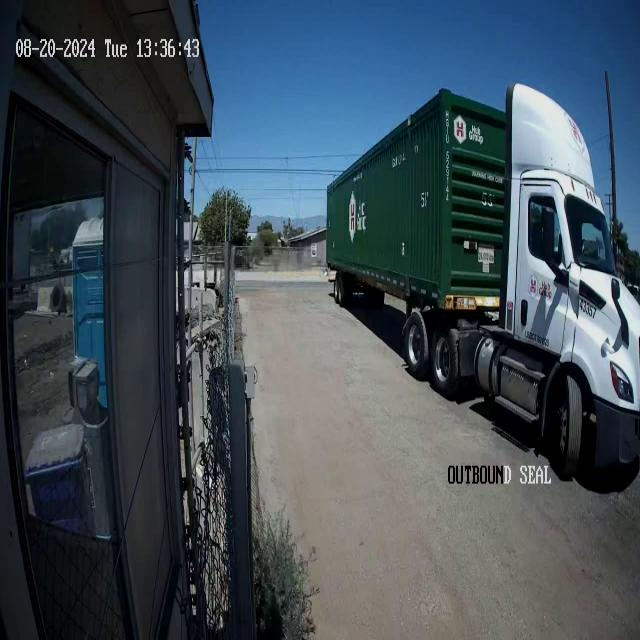CONTAINER: (325, 79, 506, 320)
